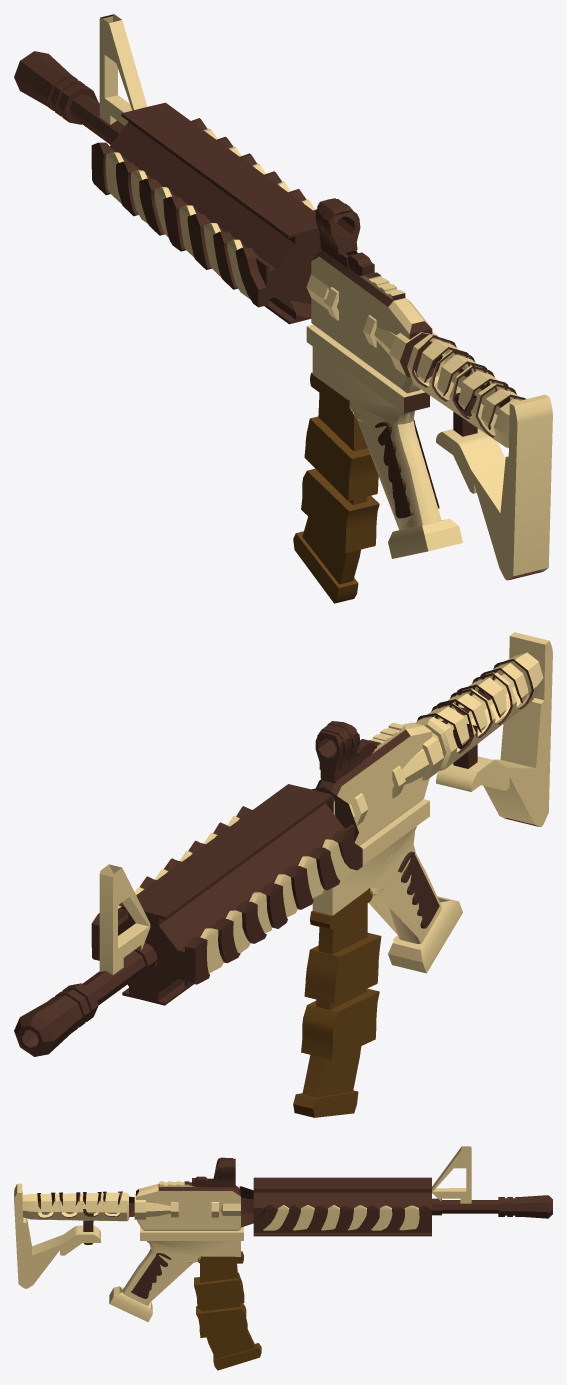
File: RIFLE.fbx
The picture shows the model from 3 angles, top to bottom: view 1: azimuth 30°, elevation 25°; view 2: azimuth 150°, elevation 25°; view 3: azimuth 270°, elevation 25°; orthographic projection. The views are drawn at different scales.
Visible parts, largest first — view 1: Cylinder; view 2: Cylinder; view 3: Cylinder.
Part boxes in pixels (x1,y1,x2,y2): Cylinder: (14,14,552,603); Cylinder: (14,632,552,1117); Cylinder: (14,1146,552,1370).
Size of the model in its own units: 511 by 1889 by 4194.
